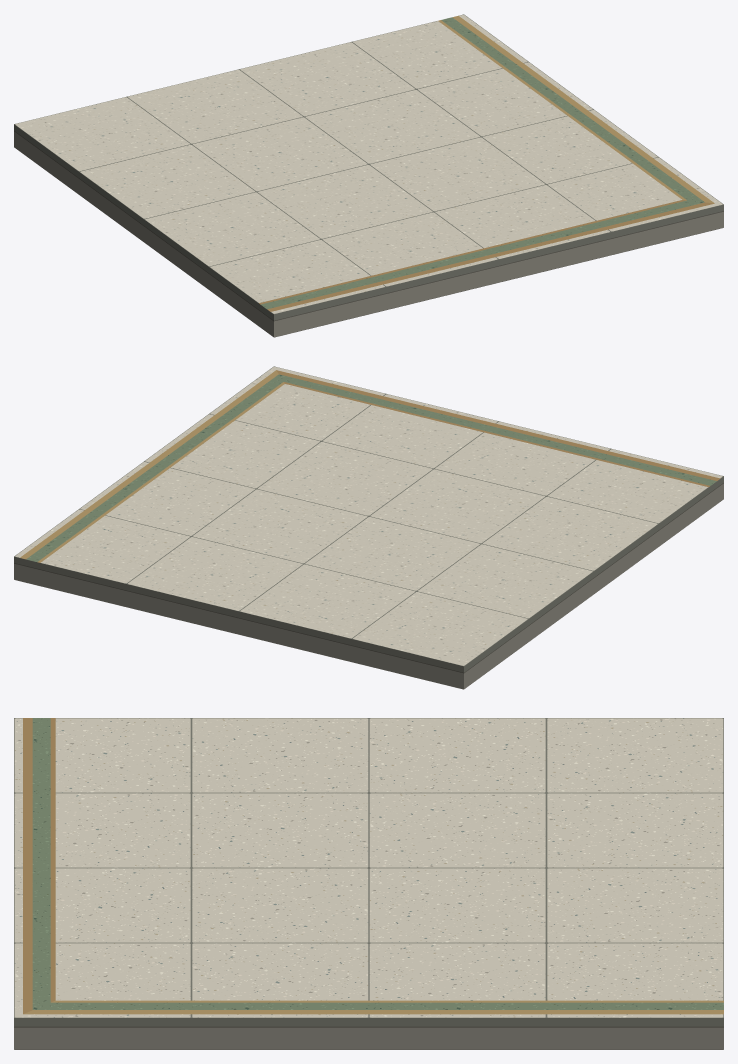
The model's file is mall-floor-corner-2m.glb.
3 renders of one model, top to bottom at view 1: azimuth 30°, elevation 25°; view 2: azimuth 150°, elevation 25°; view 3: azimuth 270°, elevation 25°, orthographic. The views are drawn at different scales.
Parts seen in each view (by area): view 1: MODULE_CornerFloor_L0; view 2: MODULE_CornerFloor_L0; view 3: MODULE_CornerFloor_L0.
Boxes of the visible parts, x1,y1,x2,y2 form: MODULE_CornerFloor_L0: (14,14,723,337); MODULE_CornerFloor_L0: (14,366,723,689); MODULE_CornerFloor_L0: (14,718,723,1049).
Size of the model in its own units: 2 by 0.1 by 2.
7 materials, 2 textured.
